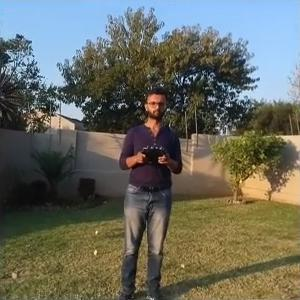follow: (112, 84, 186, 299)
